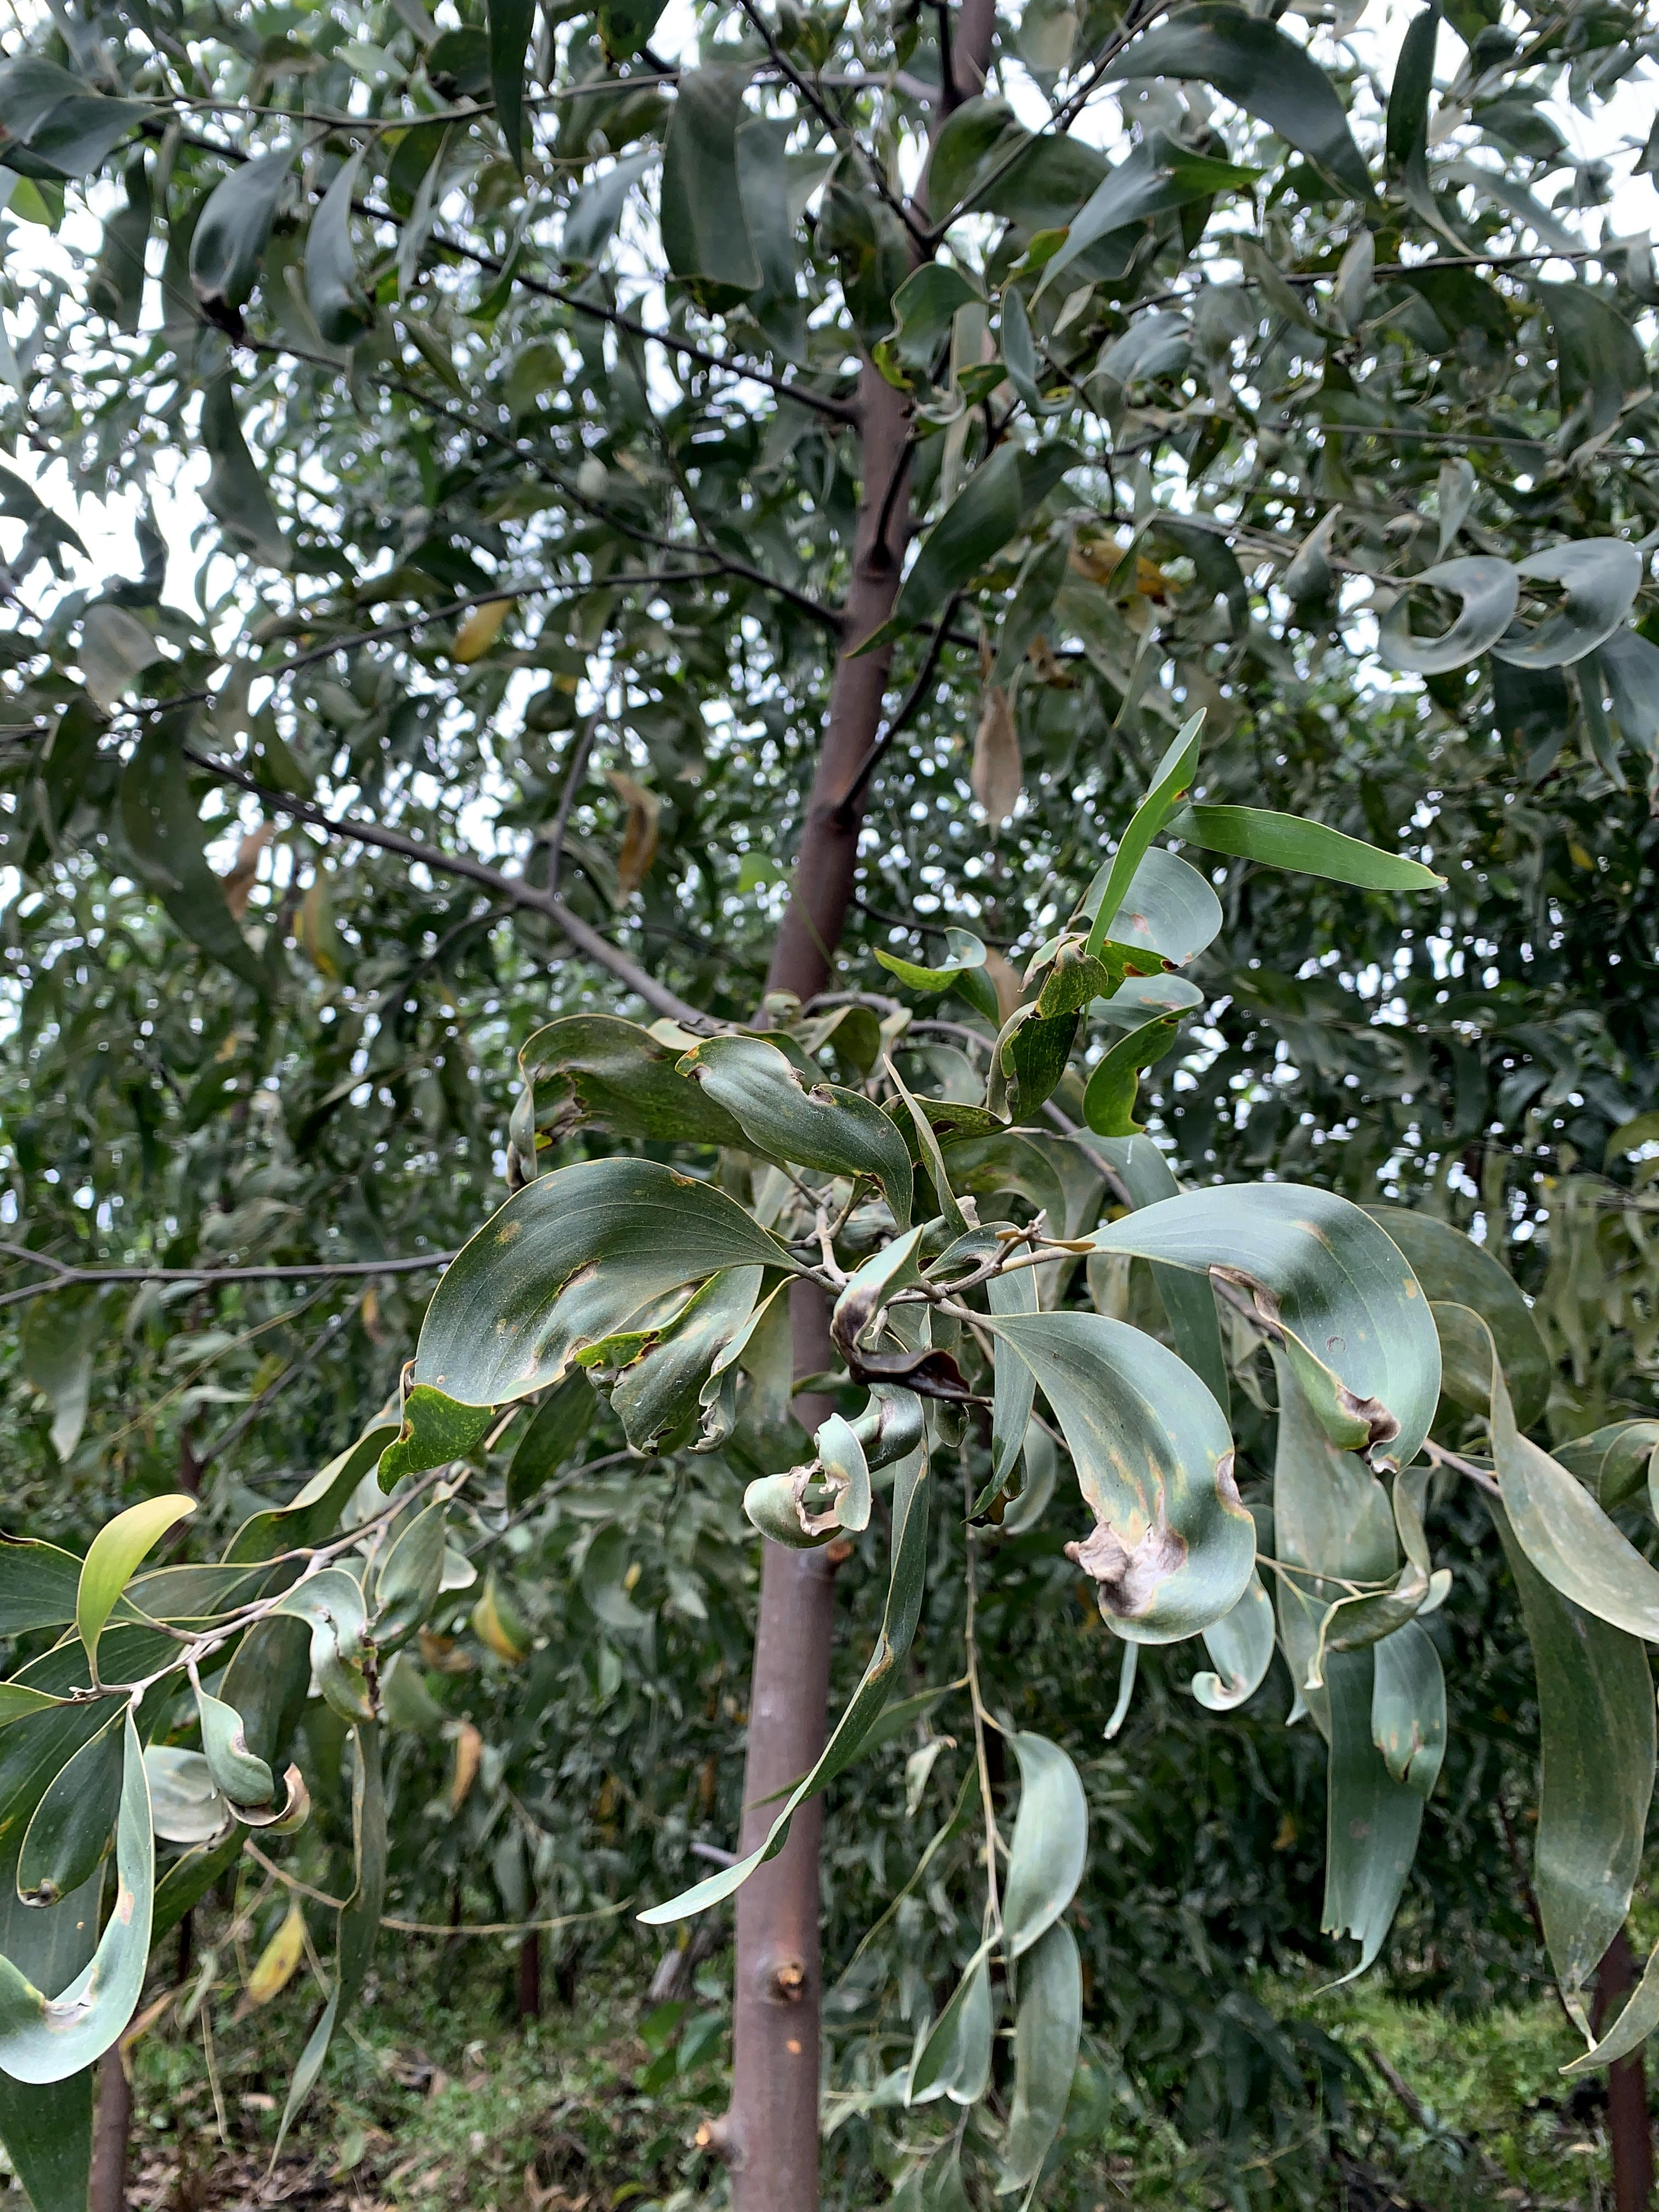Pasalora: (1192, 1237, 1422, 1489), (1063, 1444, 1218, 1651), (680, 1031, 880, 1174), (495, 1019, 660, 1169), (831, 1258, 951, 1392), (762, 1439, 868, 1543)
